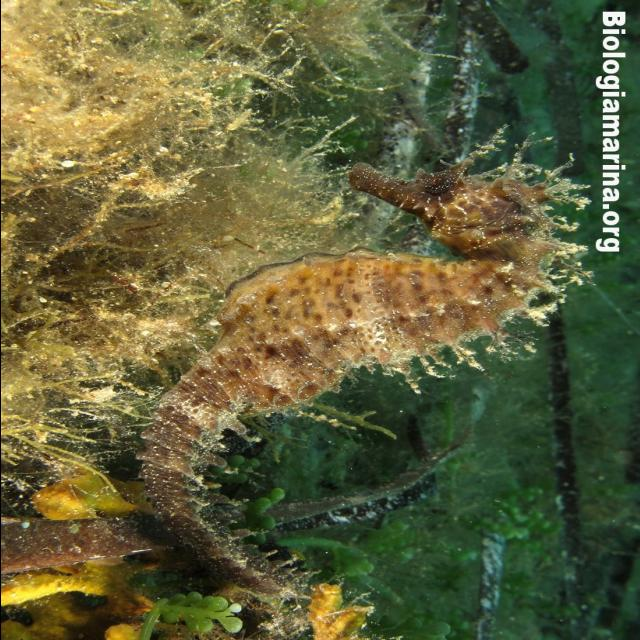Guttu: (336, 148, 584, 258)
